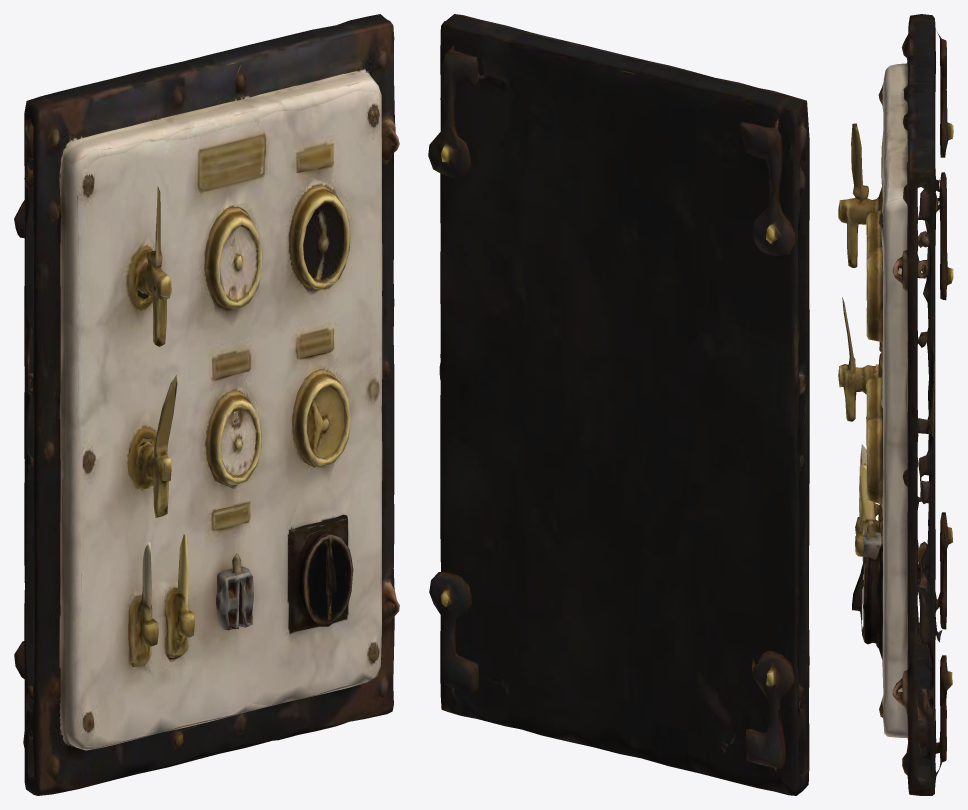
The model's file is tablero_marmol.glb.
3 views of the same model, side by side, from view 1: azimuth 30°, elevation 25°; view 2: azimuth 150°, elevation 25°; view 3: azimuth 270°, elevation 25° (orthographic). The views are drawn at different scales.
Parts seen in each view (by area): view 1: geometry_0; view 2: geometry_0; view 3: geometry_0.
Boxes of the visible parts, box(x1,y1,x2,y2) form: geometry_0: box(14, 14, 399, 795); geometry_0: box(428, 14, 809, 795); geometry_0: box(838, 14, 953, 795).
Bounding box in the file's own units: 1 × 1.8 × 0.3.
1 material, 1 textured.
